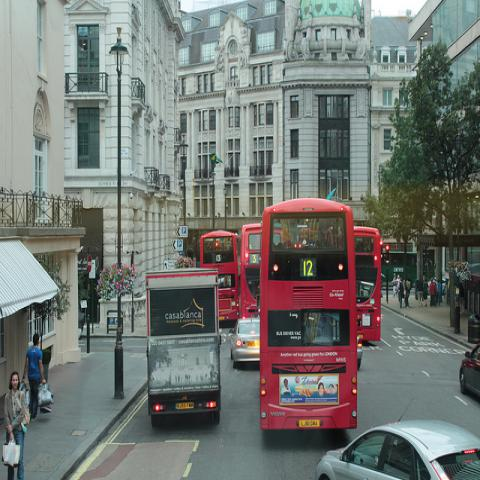bus: (258, 195, 360, 430), (145, 269, 223, 432), (200, 233, 242, 323), (355, 228, 380, 342), (240, 223, 261, 320)
car: (314, 418, 480, 479), (230, 319, 260, 369), (458, 343, 479, 401), (428, 275, 448, 298), (356, 334, 363, 372)
truck: (145, 268, 220, 423)
